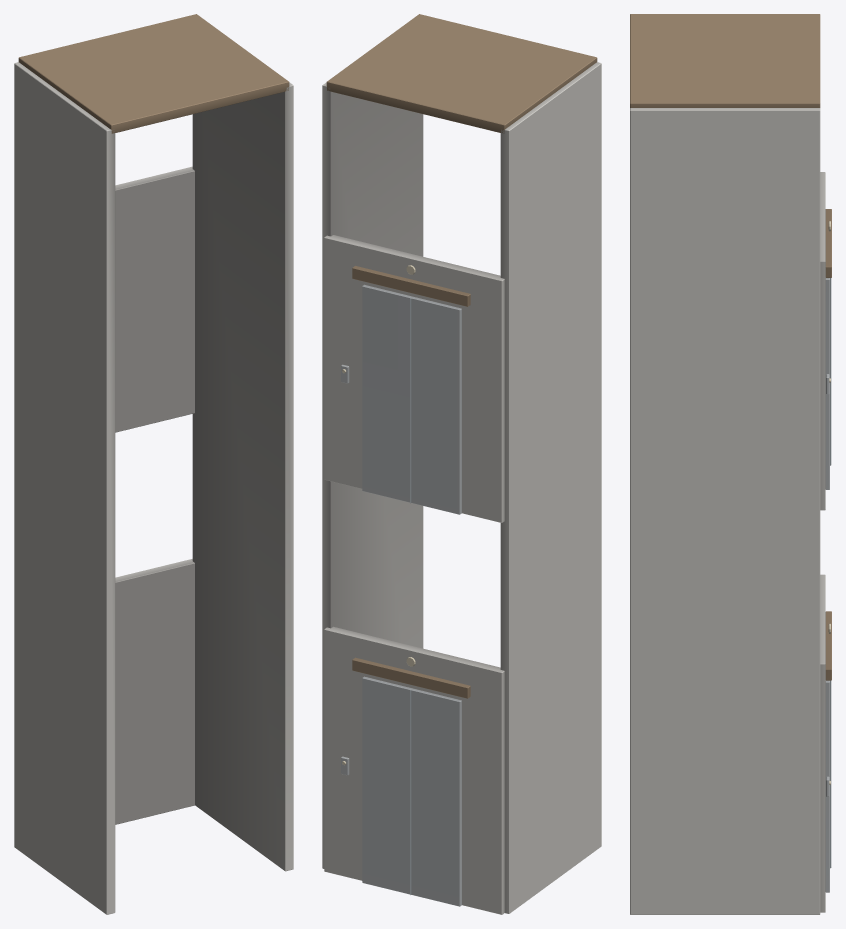
The model's file is mall_elevator.glb.
The picture shows the model from 3 angles, left to right: view 1: azimuth 30°, elevation 25°; view 2: azimuth 150°, elevation 25°; view 3: azimuth 270°, elevation 25°; orthographic projection. The views are drawn at different scales.
Bounding box in the file's own units: 2.1 × 8.45 × 1.91.
